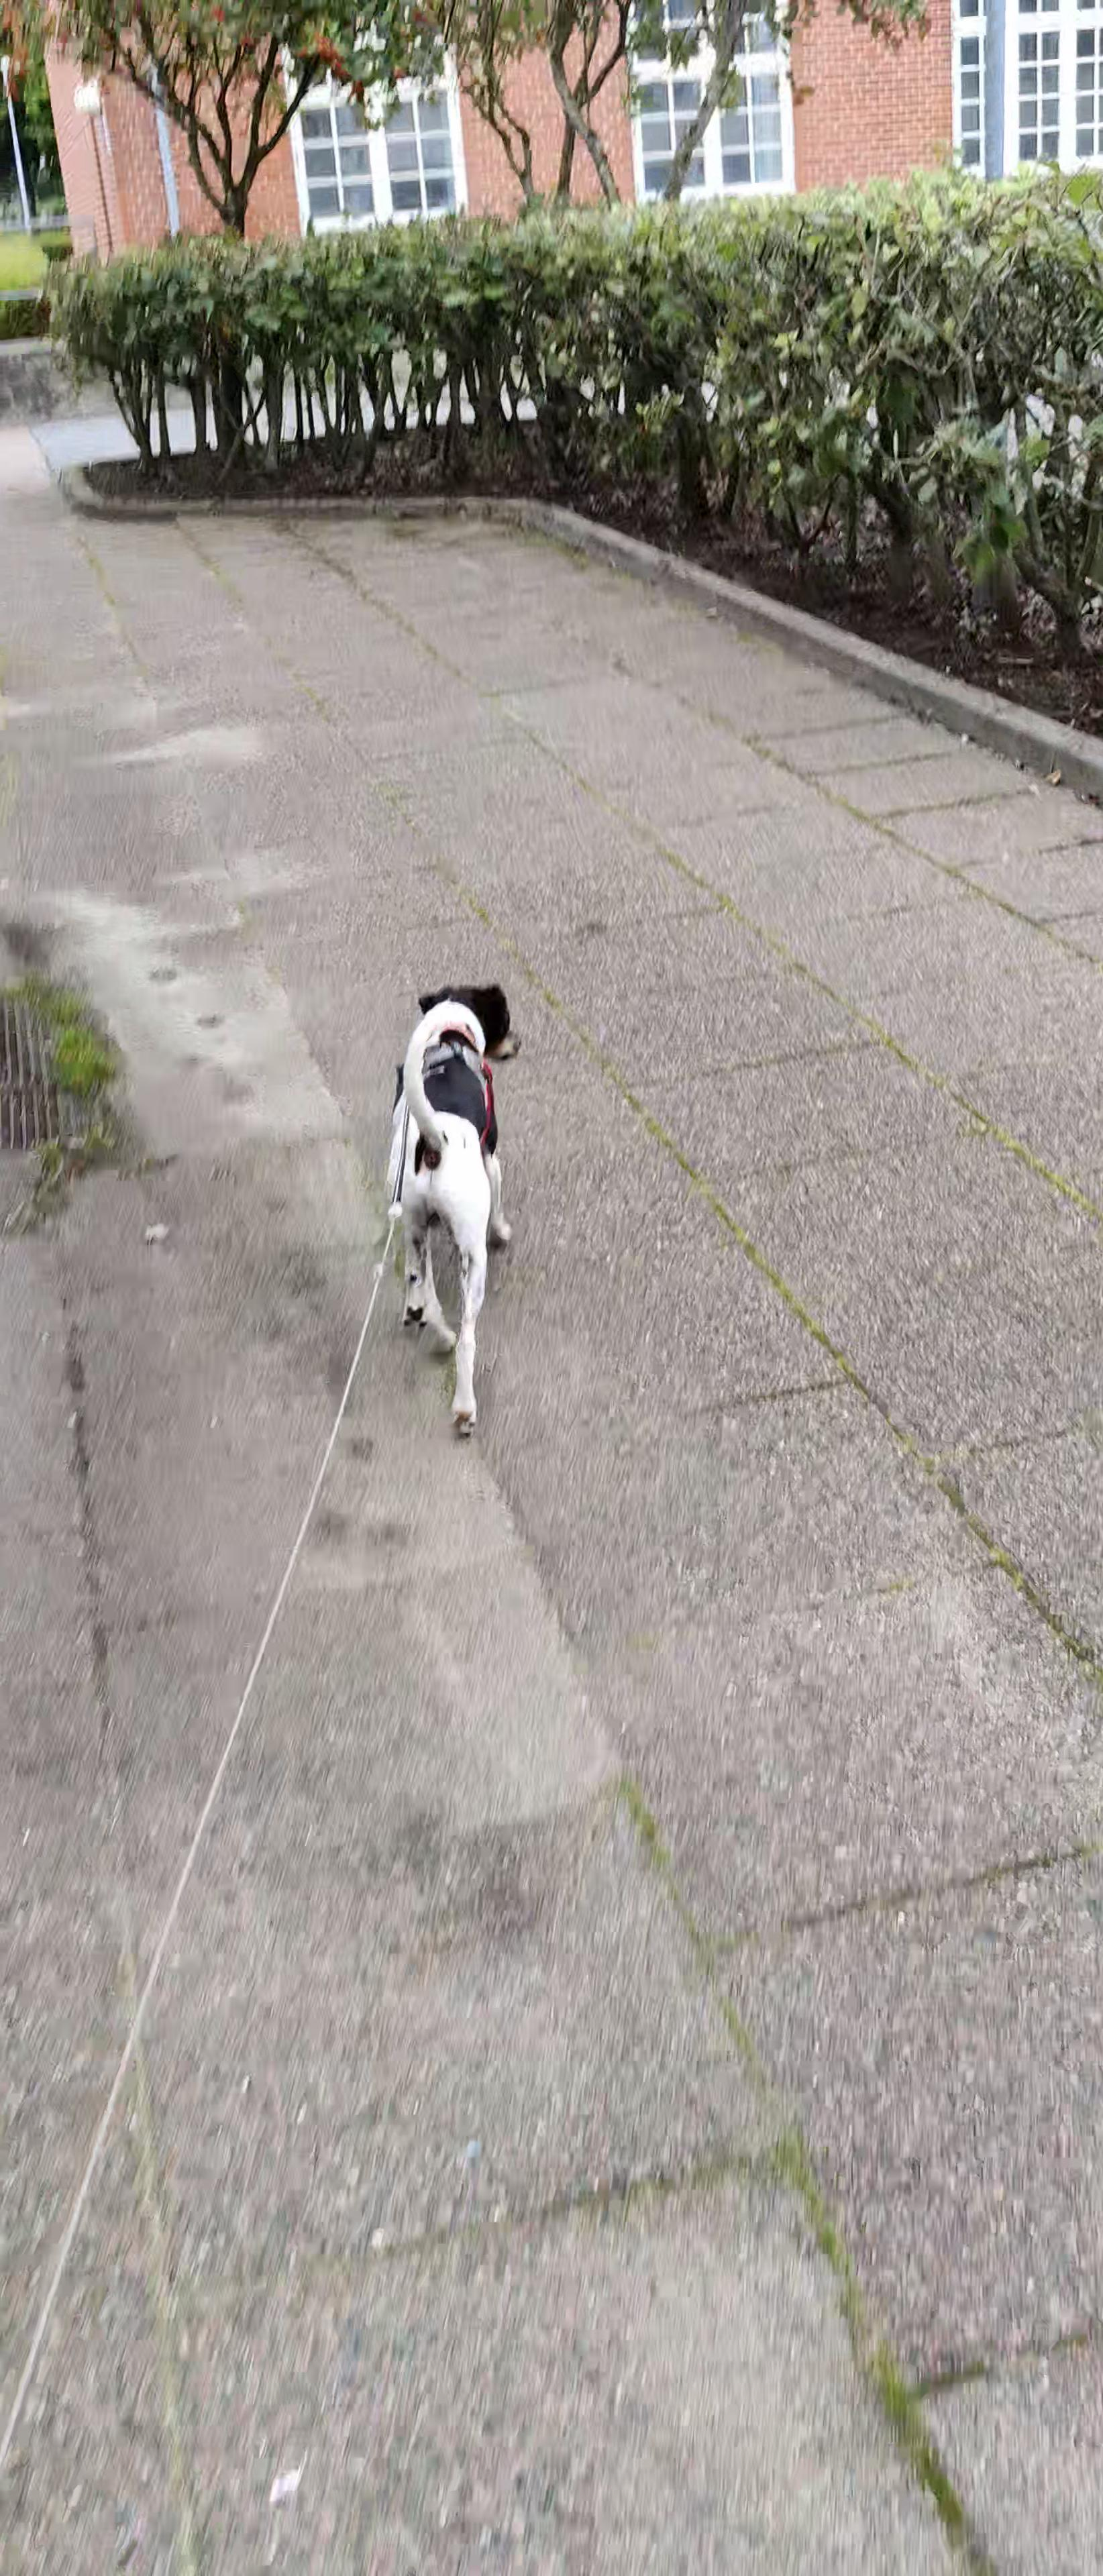Dog: (367, 953, 556, 1454)
